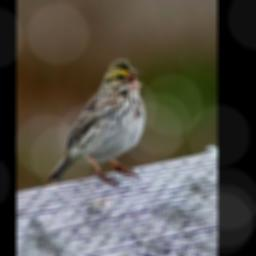Sparrow: (47, 53, 147, 189)
